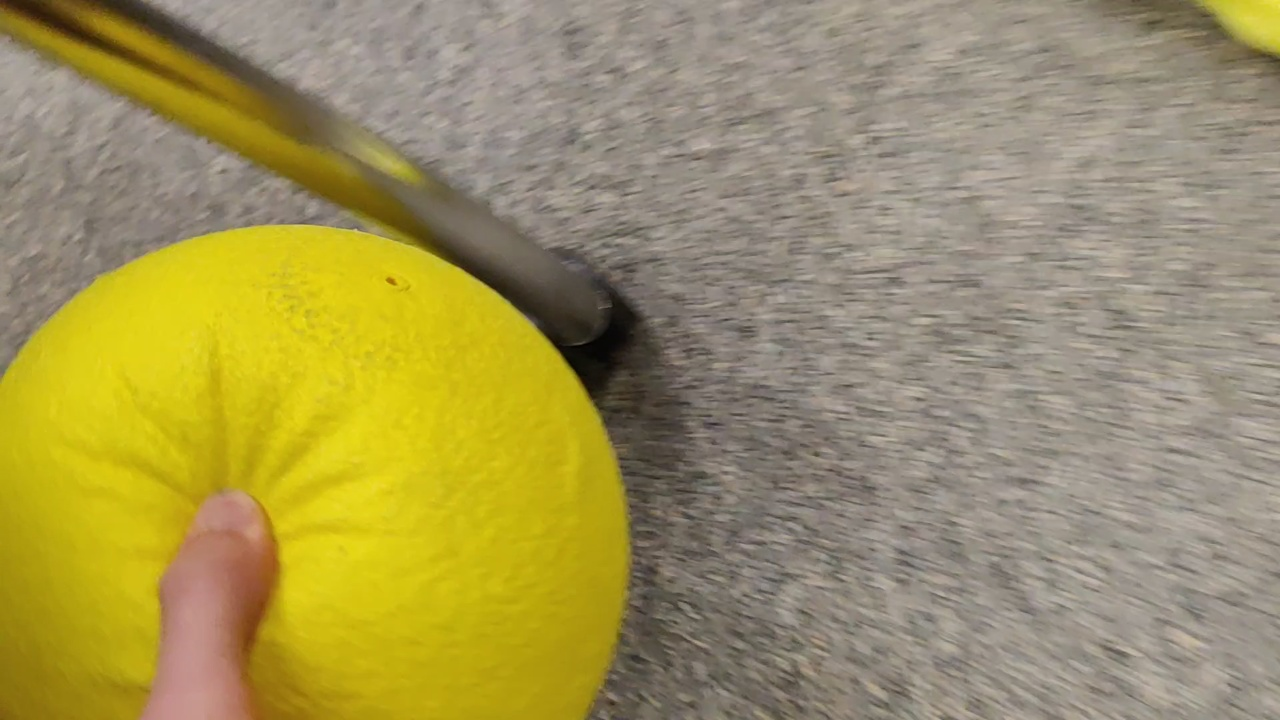Ball: (4, 223, 624, 720)
